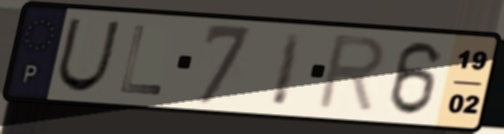6: (383, 39, 446, 119)
7: (197, 21, 257, 108)
I: (267, 29, 309, 109)
L: (116, 23, 165, 99)
R: (311, 32, 390, 117)
U: (53, 15, 124, 95)
